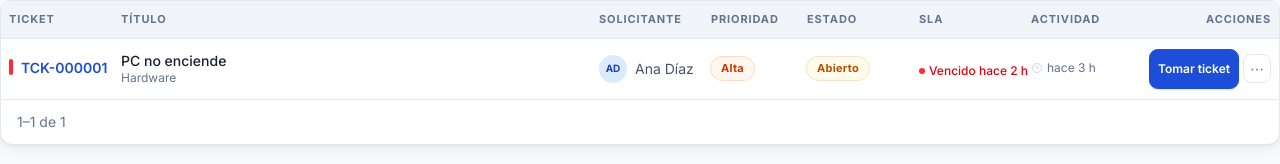
TicketTable · el tooltip explica los metadatos de la fila › la franja de urgencia no se anuncia dos veces: su texto ya es el nombre
The image size is (1280, 164).
Hover over the picture named "Fuera de plazo": (11, 67) [9,59,13,75]
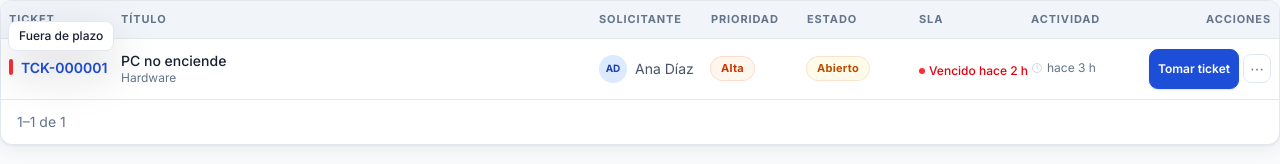
Check: the text "Fuera de plazo" is shown, box [8,21,114,51]
